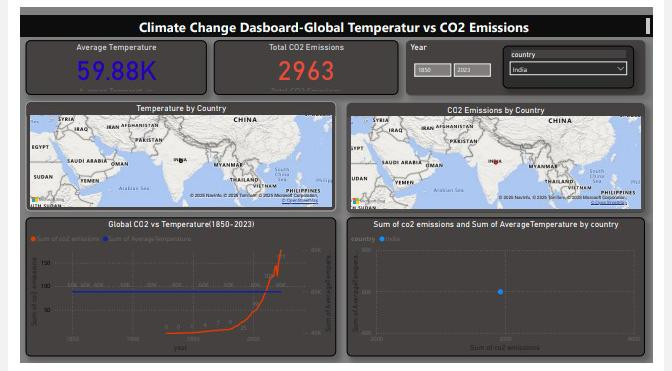

This screenshot's page, from the dashboard's own definition file:
{"tool":"powerbi","page":{"name":"C","canvas":[1280,720],"ordinal":0},"visuals":[{"type":"lineChart","title":"Global CO2 vs Temperature(1850-2023)","fields":{"Category":["co2_emission.year"],"Y":["Sum(co2_emission.cement_co2)"],"Y2":["Sum(GlobalLandTemperaturesByCountry.AverageTemperature)"]},"box":[11.8,425,628.2,280.5],"z":0},{"type":"map","title":"CO2 Emissions by Country","fields":{"Category":["co2_emission.country"],"Size":["Sum(co2_emission.co2 emissions)"]},"box":[661.8,193.2,603,221.7],"z":1000},{"type":"map","title":"Temperature by Country","fields":{"Category":["GlobalLandTemperaturesByCountry.Country"],"Size":["Sum(GlobalLandTemperaturesByCountry.AverageTemperature)"]},"box":[11.8,189.8,628.2,221.7],"z":2000},{"type":"slicer","title":"Year","fields":{"Values":["co2_emission.year"]},"box":[782.1,66.1,483.9,110.7],"z":3000},{"type":"card","title":"Total CO2 Emissions","fields":{"Values":["Sum(co2_emission.co2 emissions)"]},"box":[393.1,65.5,372.9,110.9],"z":4000},{"type":"card","title":"Average Temperature","fields":{"Values":["Sum(GlobalLandTemperaturesByCountry.AverageTemperature)"]},"box":[11.8,65.5,366.2,110.9],"z":5000},{"type":"slicer","fields":{"Values":["Countries.country"]},"box":[977.6,77.3,265.4,85.7],"z":6000},{"type":"scatterChart","fields":{"X":["Sum(co2_emission.co2 emissions)"],"Y":["Sum(Temperature.AverageTemperature)"],"Series":["Countries.country"]},"box":[661.8,425,603,280.5],"z":7000},{"type":"textbox","box":[0,15.2,1280,44],"z":8000}]}

Visuals, with their boxes in screenshot pixels (x1, y1, x2, y2), scaled from the page's 1280x720 canvas onto the 672x371 screenshot:
"Global CO2 vs Temperature(1850-2023)" lineChart: <box>6,219,336,364</box>
"CO2 Emissions by Country" map: <box>347,100,664,214</box>
"Temperature by Country" map: <box>6,98,336,212</box>
"Year" slicer: <box>411,34,665,91</box>
"Total CO2 Emissions" card: <box>206,34,402,91</box>
"Average Temperature" card: <box>6,34,198,91</box>
slicer - Countries.country: <box>513,40,653,84</box>
scatterChart - Sum(co2_emission.co2 emissions) x Sum(Temperature.AverageTemperature): <box>347,219,664,364</box>
textbox: <box>0,8,671,31</box>
